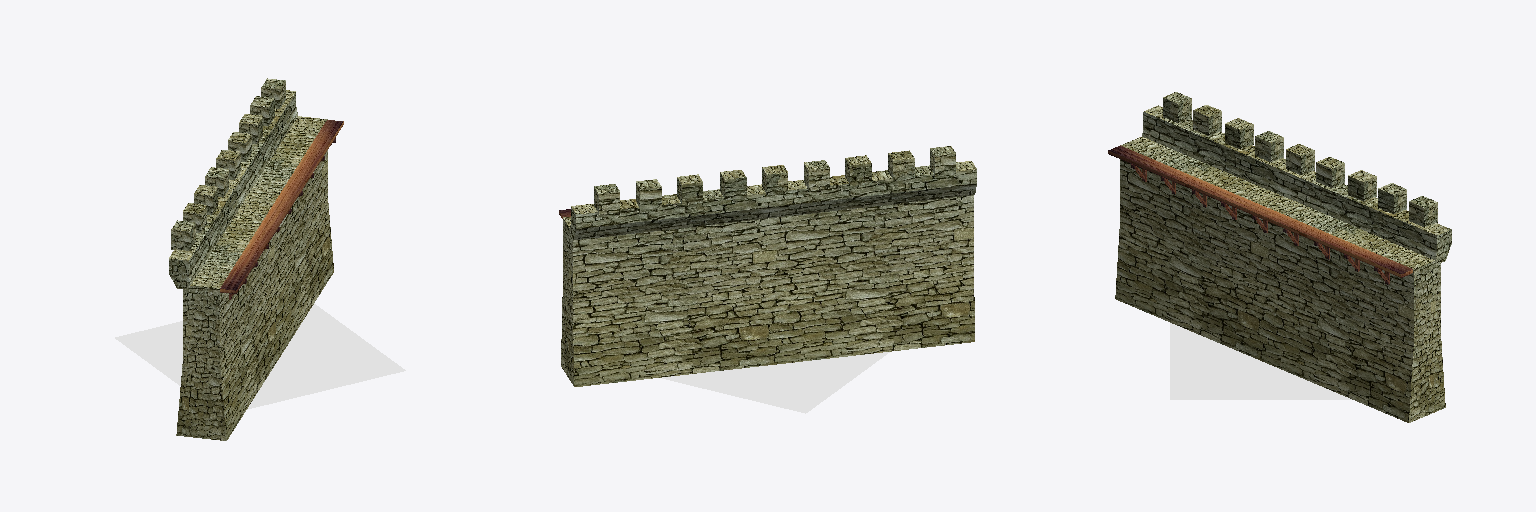
3 views of the same model, side by side, from view 1: azimuth 30°, elevation 25°; view 2: azimuth 150°, elevation 25°; view 3: azimuth 270°, elevation 25° (orthographic).
Parts seen in each view (by area): view 1: limestone, grass, floor; view 2: limestone, grass; view 3: limestone, grass, floor.
Part boxes in pixels (x1,y1,x2,y2): limestone: (169, 78, 333, 440); grass: (115, 303, 405, 409); floor: (220, 120, 343, 299); limestone: (561, 146, 976, 386); grass: (662, 352, 889, 413); limestone: (1115, 92, 1451, 422); grass: (1170, 323, 1351, 399); floor: (1108, 145, 1412, 284).
Size of the model in its own units: 122 by 76.58 by 122.
3 materials, 2 textured.